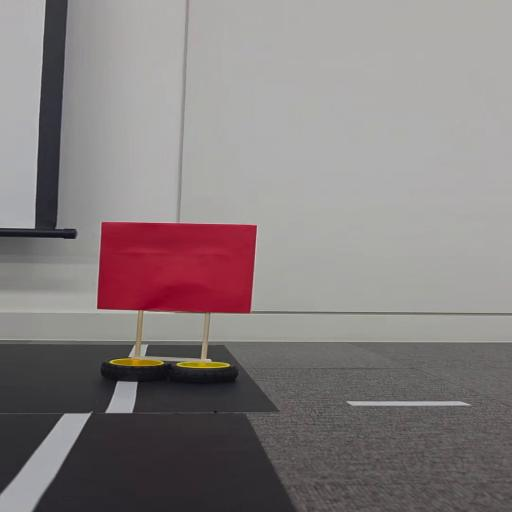Sign_A: (85, 219, 266, 392)
